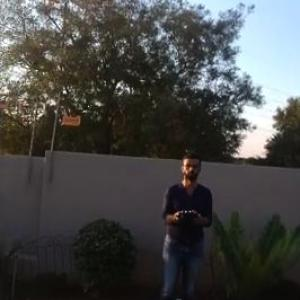follow: (154, 143, 216, 299)
